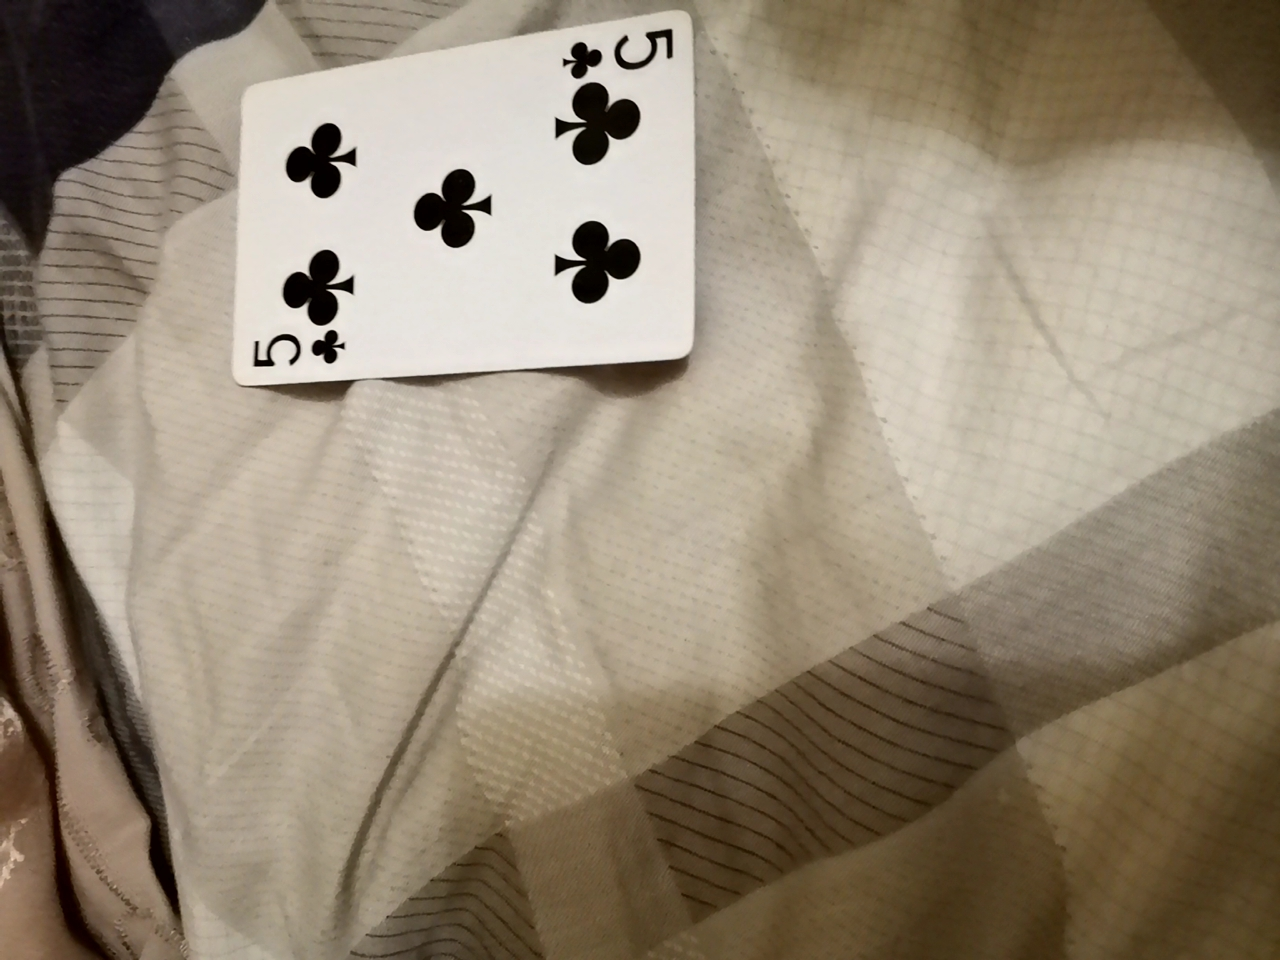mh 5: (234, 6, 694, 395)
